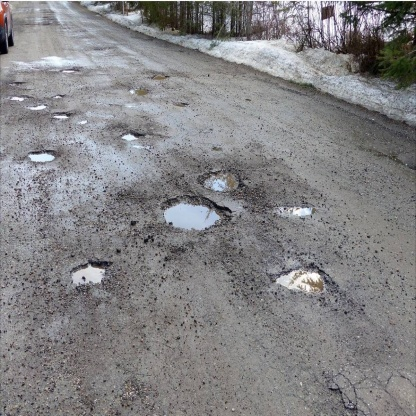pothole: (153, 192, 236, 237), (263, 260, 338, 302), (267, 195, 326, 226), (64, 256, 119, 289), (195, 163, 247, 195), (20, 145, 61, 164), (113, 128, 151, 144), (5, 90, 32, 106), (48, 109, 76, 124)
